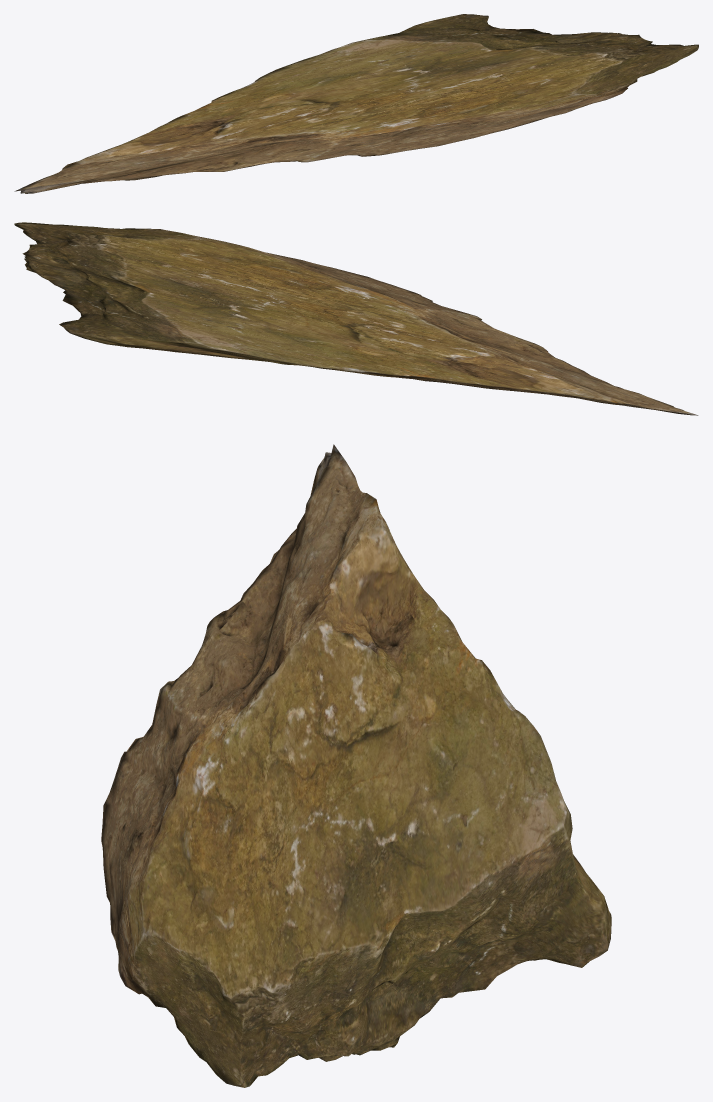
The model's file is Sporgenza 2.fbx.
3 renders of one model, top to bottom at view 1: azimuth 30°, elevation 25°; view 2: azimuth 150°, elevation 25°; view 3: azimuth 270°, elevation 25°, orthographic. The views are drawn at different scales.
Parts seen in each view (by area): view 1: sporgenza 2; view 2: sporgenza 2; view 3: sporgenza 2.
Part boxes in pixels (box(x1,y1,x2,y2)): sporgenza 2: box(14, 14, 698, 193); sporgenza 2: box(14, 222, 698, 415); sporgenza 2: box(101, 444, 611, 1087).
Bounding box in the file's own units: 1813 × 38.51 × 605.
